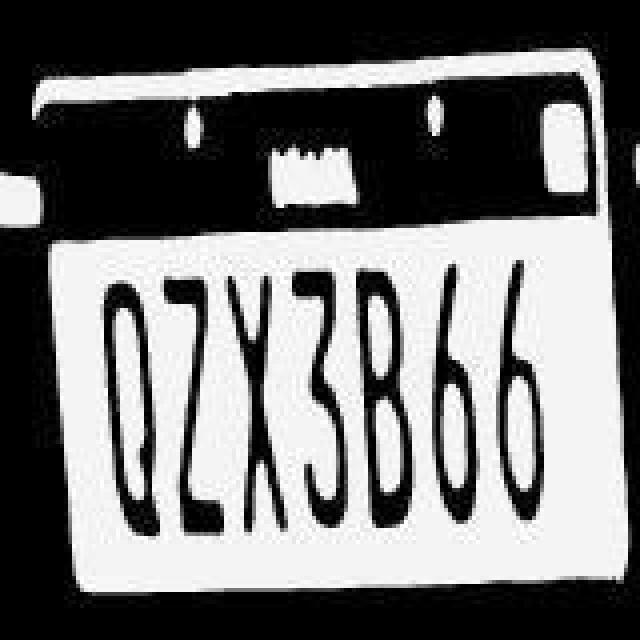3: (290, 266, 350, 534)
6: (490, 258, 550, 526), (428, 260, 484, 524)
B: (352, 268, 416, 532)
Q: (98, 280, 166, 544)
X: (224, 270, 288, 538)
Z: (164, 276, 220, 540)
